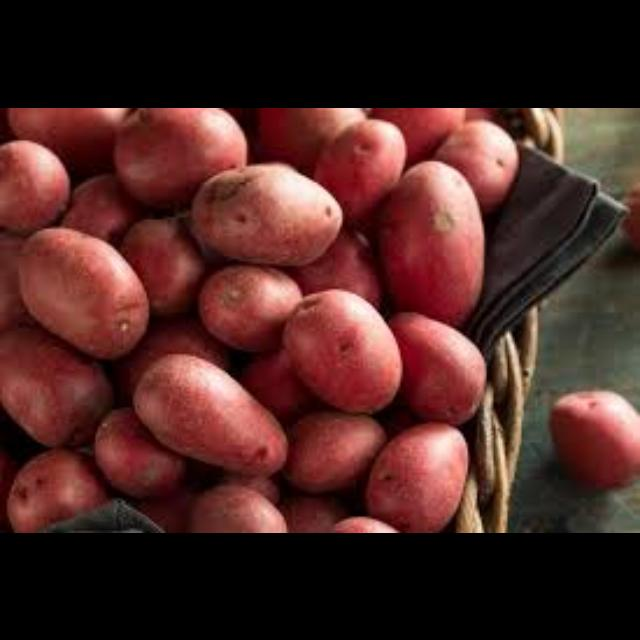Defected potato: (126, 349, 288, 478), (374, 160, 490, 334), (11, 224, 153, 362), (192, 155, 342, 273), (281, 284, 405, 414), (103, 108, 250, 215), (0, 317, 106, 455), (304, 114, 412, 232), (364, 418, 474, 532), (426, 113, 520, 230), (546, 382, 640, 494), (0, 137, 70, 235)
